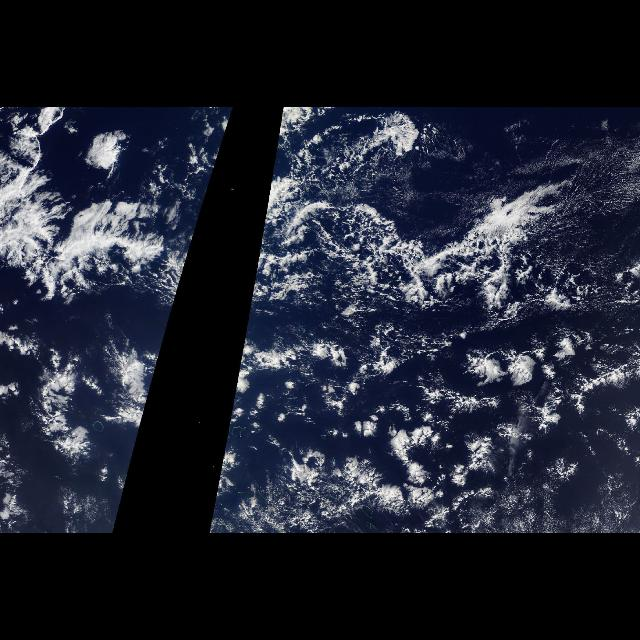Fish: (10, 184, 194, 292)
Flower: (342, 332, 570, 506)
Gravel: (499, 449, 639, 533)
Sugar: (505, 114, 639, 250), (370, 158, 504, 225)
